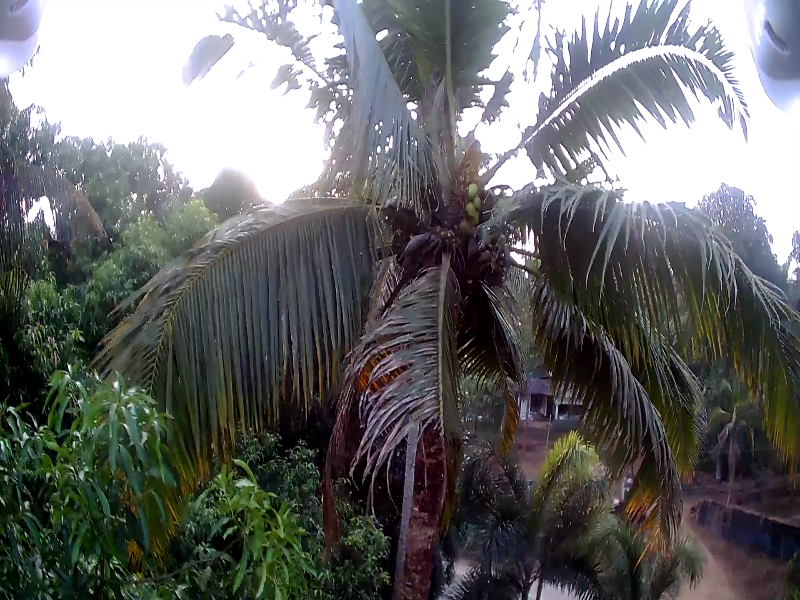coconut: (468, 194, 479, 206), (464, 186, 474, 198), (459, 218, 468, 231), (465, 205, 473, 218), (497, 263, 503, 272)
